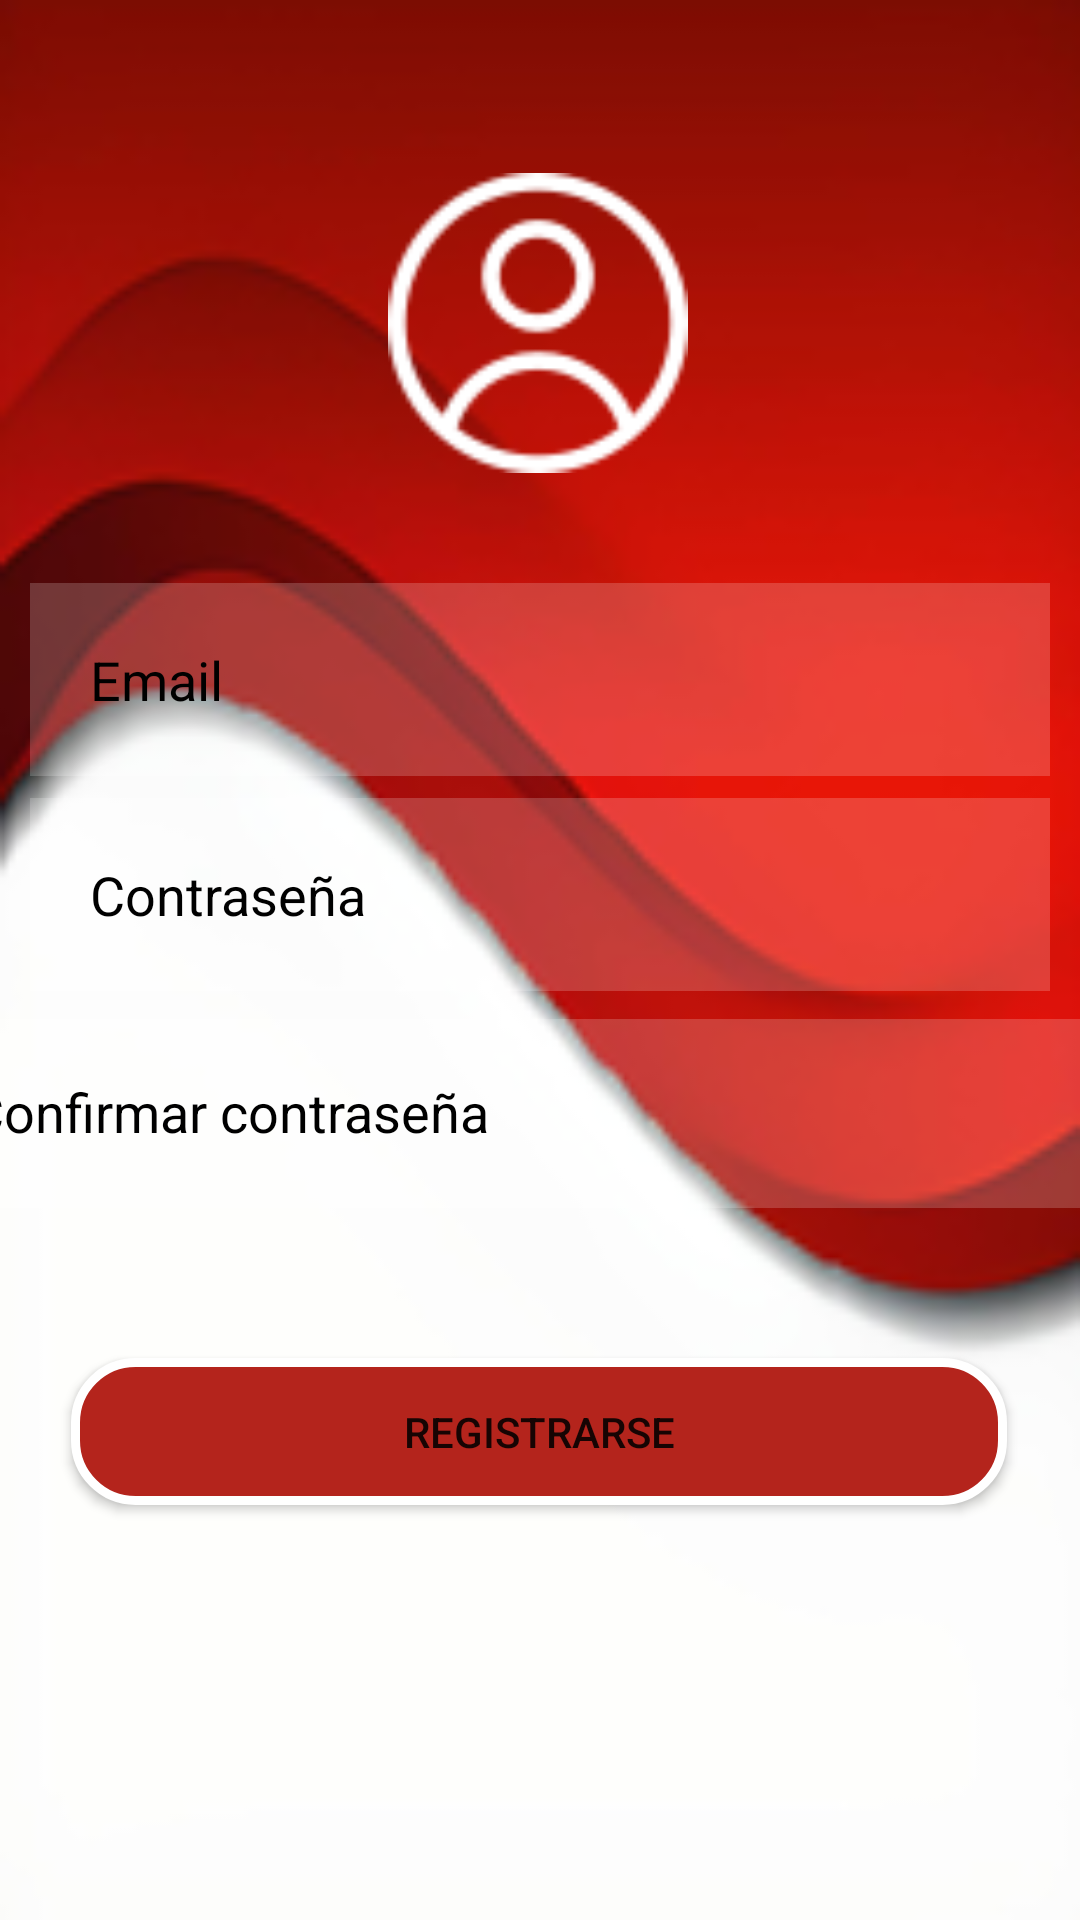

Screen size 1080px×1920px. Icon name, then its center in pixels as point (x, y):
usuario login: point (538, 323)
